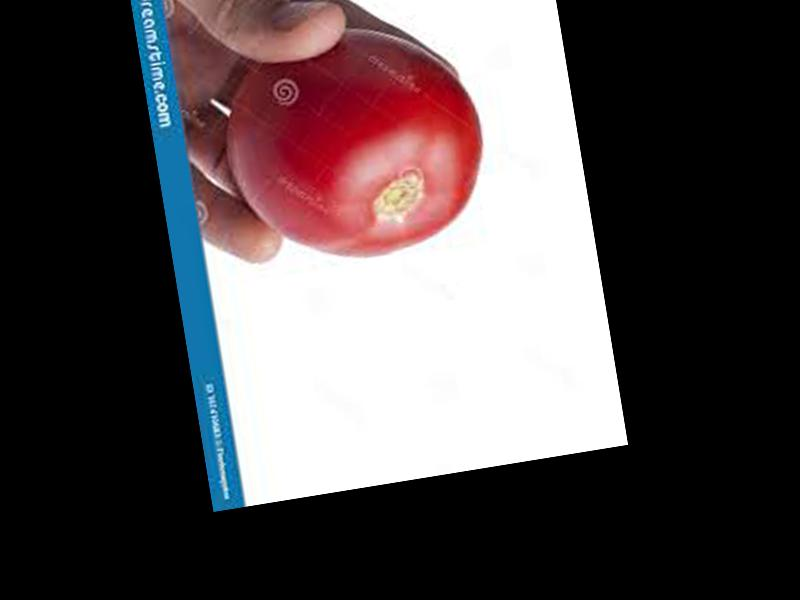Tomato: (212, 9, 497, 275)
